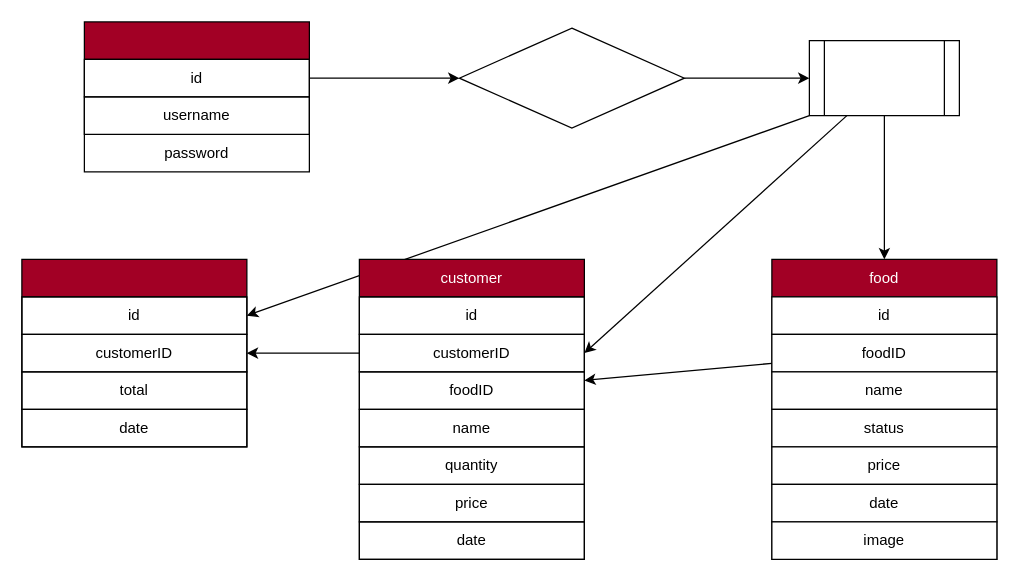
Image size: 1019x581. Some labels were removed from this diagram. Each missing label, with the box of its shape:
admin: (83, 21, 309, 172)
customer info: (21, 258, 247, 447)
GUI: (808, 39, 959, 116)
Realtion: (458, 27, 684, 128)
